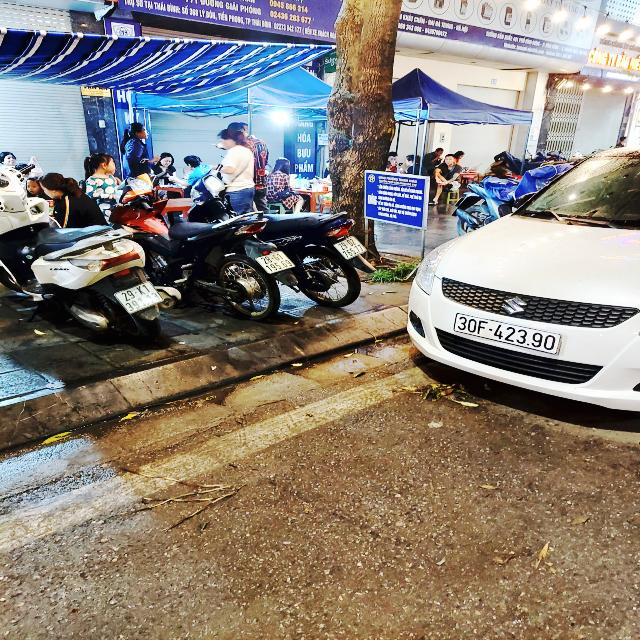license_plate: (450, 311, 569, 361), (111, 279, 169, 317), (254, 250, 299, 276), (332, 235, 371, 262)
